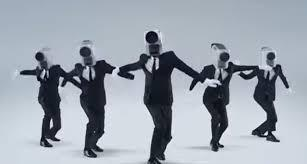no more kid: (142, 26, 169, 60), (77, 37, 100, 68), (209, 41, 232, 72), (258, 44, 280, 73), (32, 46, 57, 70)
